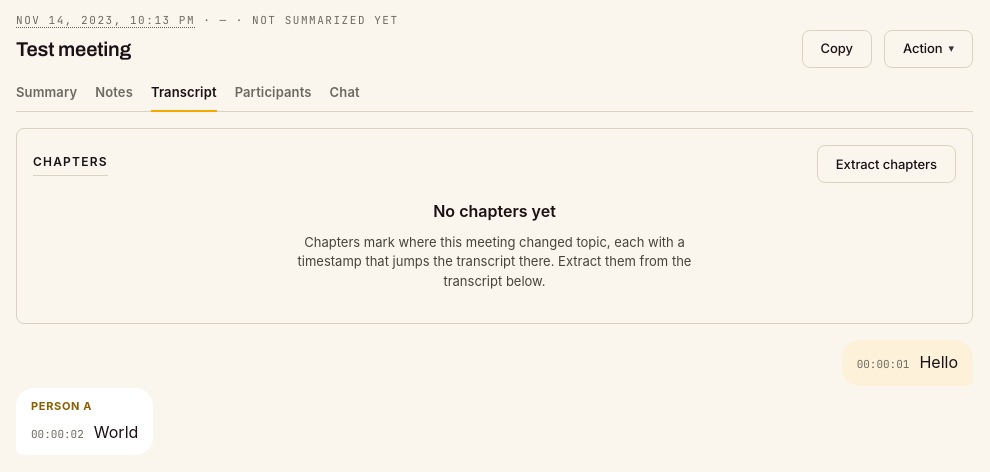
Scenario: diarization_unavailable banner in SummaryPane › shows the banner when manifest.diarization_unavailable is true
The banner is on the participants tab.
What coordinates should you click on to do the following:
click the text "participants"
I would click on:
 (273, 92)
Its box is [235, 82, 312, 103].
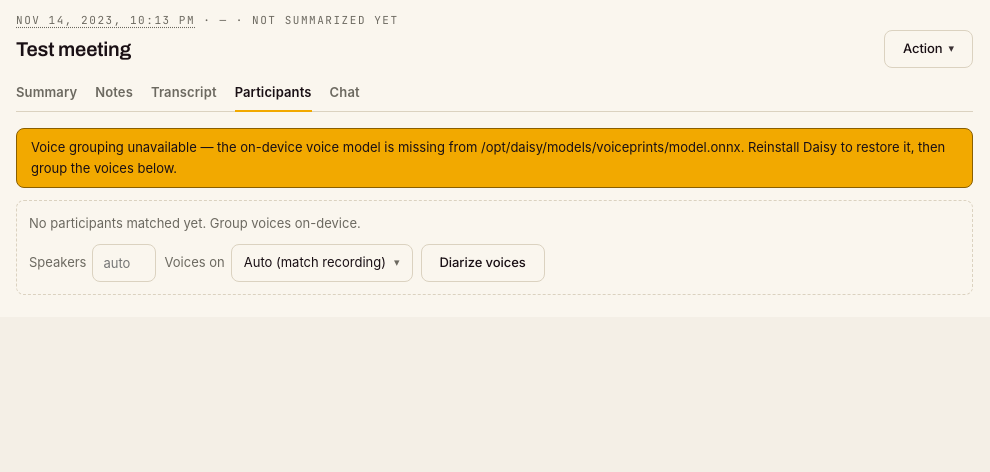
Expected: the text with test id "diarization-unavailable-banner" is shown, [16, 128, 973, 188]
Expected: the text with test id "diarization-unavailable-banner" shows "/opt/daisy/models/voiceprints/model.onnx", [31, 139, 945, 176]
